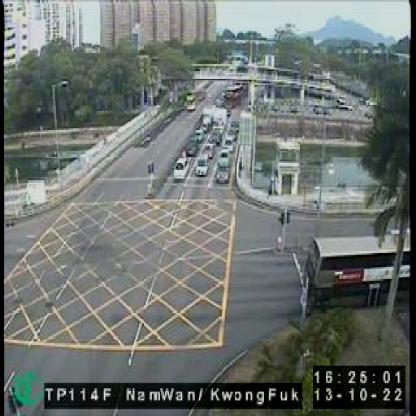Bus: (299, 236, 411, 316), (225, 82, 247, 108)
Car: (202, 104, 216, 130), (174, 156, 190, 178), (194, 157, 210, 179), (185, 139, 198, 156), (203, 142, 214, 158), (224, 136, 235, 152), (218, 148, 230, 162), (195, 128, 206, 140), (231, 120, 240, 134), (226, 132, 238, 140)
Minibus: (217, 159, 230, 184), (186, 94, 198, 111)
Truck: (212, 108, 230, 134)
